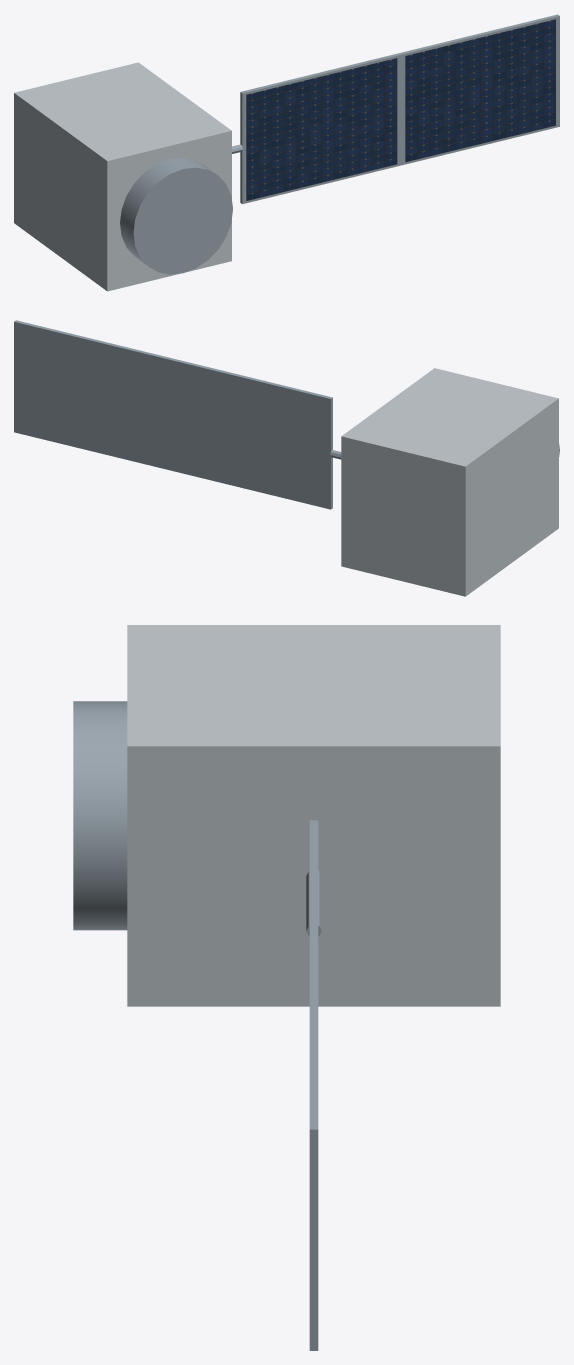
File: ref-saturn-67395.glb
3 renders of one model, top to bottom at view 1: azimuth 30°, elevation 25°; view 2: azimuth 150°, elevation 25°; view 3: azimuth 270°, elevation 25°, orthographic. The views are drawn at different scales.
Parts seen in each view (by area): view 1: Photovoltaic laminates (×2), Spacecraft body, Cylindrical section, Array frame (×2); view 2: Spacecraft body, Array frame (×2); view 3: Spacecraft body, Cylindrical section, Array frame (×2).
Boxes of the visible parts, x1,y1,x2,y2 form: Photovoltaic laminates (×2): (246,19,555,200); Spacecraft body: (14,62,231,291); Cylindrical section: (120,157,232,274); Array frame (×2): (240,14,559,204); Spacecraft body: (341,368,558,596); Array frame (×2): (14,320,332,509); Spacecraft body: (127,625,500,1006); Cylindrical section: (73,701,127,930); Array frame (×2): (309,820,318,1350).
Size of the model in its own units: 4 by 1 by 1.49.
3 materials, 1 textured.
